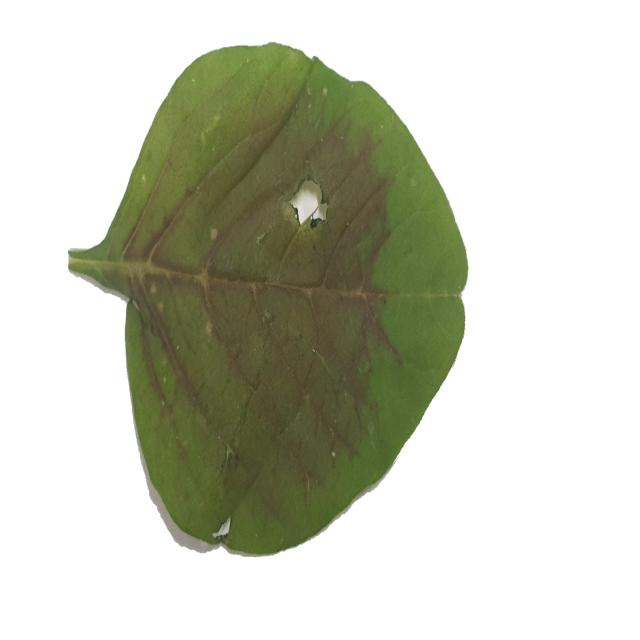Medicinal-Arive Dantu: (66, 41, 467, 558)
